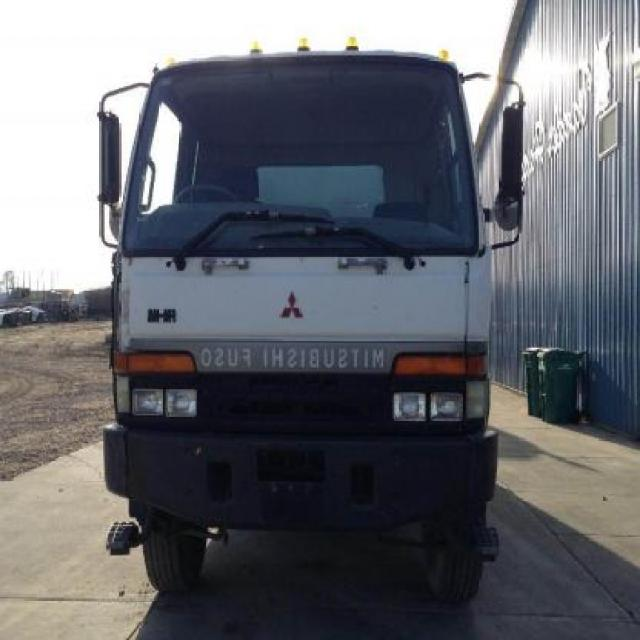truck: (100, 40, 527, 607)
